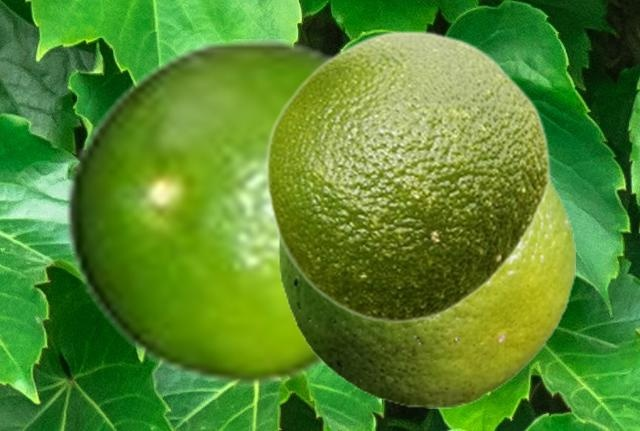calamansi: (63, 39, 339, 386), (264, 29, 550, 324), (278, 175, 574, 407)
